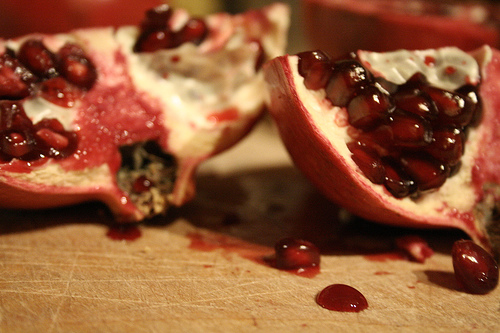pomogranate: (1, 4, 291, 224), (261, 43, 498, 255)
